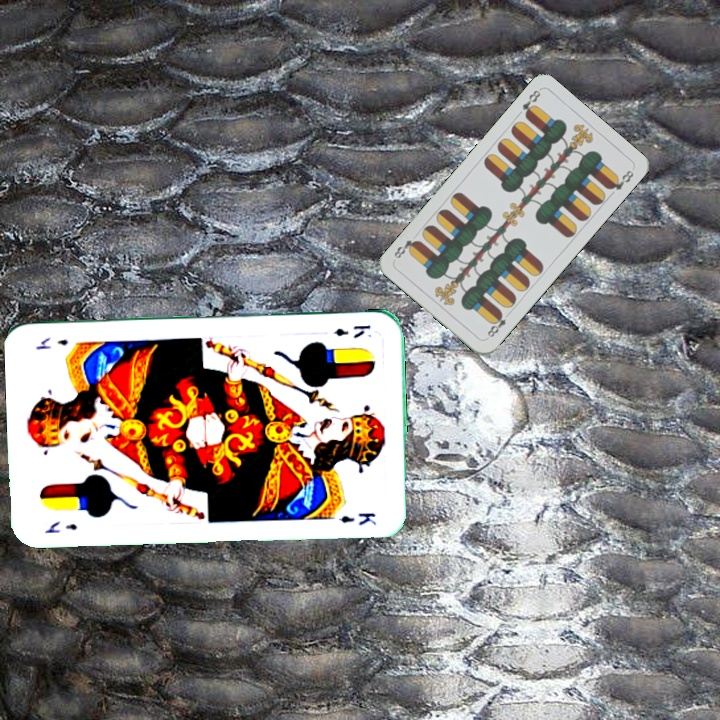E8: (482, 308, 513, 342), (518, 86, 543, 120)
EK: (330, 320, 373, 341), (41, 517, 80, 536)
